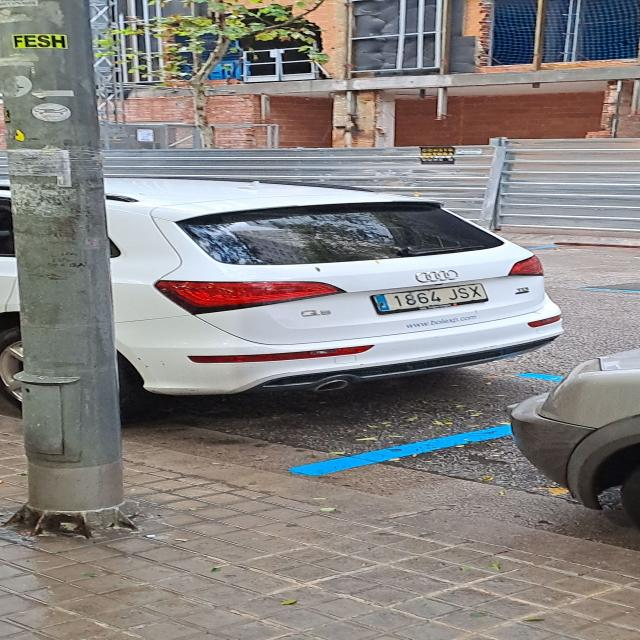license_plate-34Td: (371, 284, 488, 314)
